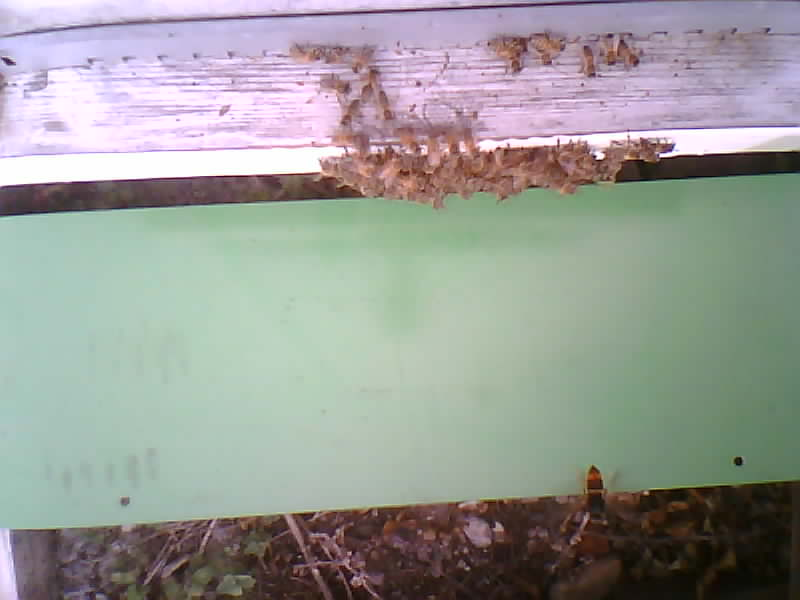bee: (330, 144, 677, 199), (302, 45, 399, 137), (487, 30, 647, 83)
hornet: (572, 454, 623, 536)
